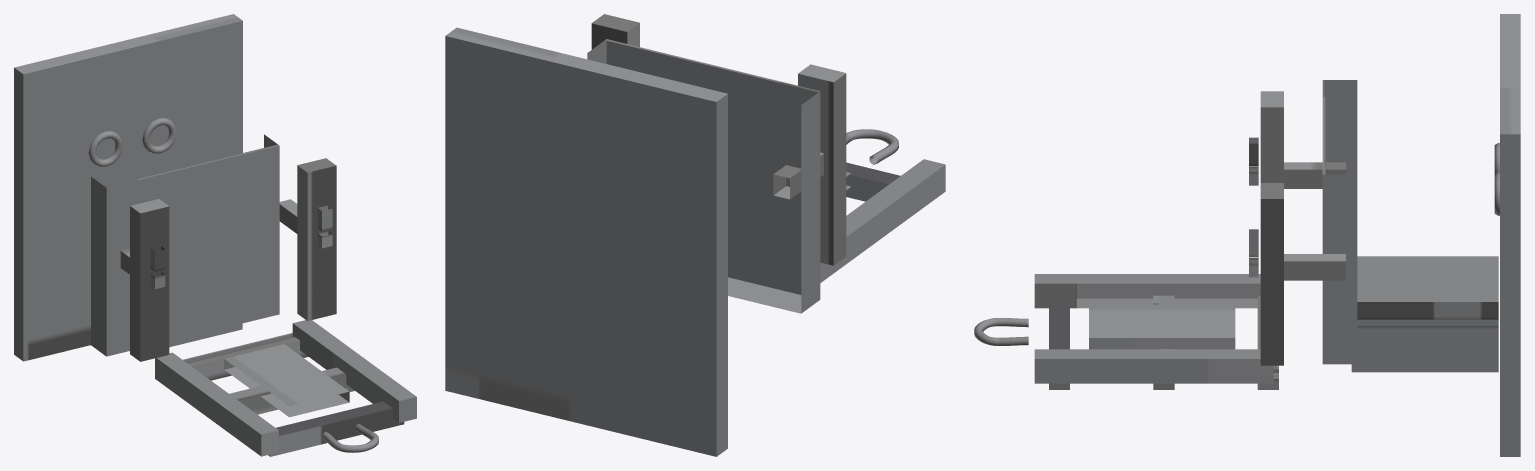
3 views of the same model, side by side, from view 1: azimuth 30°, elevation 25°; view 2: azimuth 150°, elevation 25°; view 3: azimuth 270°, elevation 25° (orthographic). The views are drawn at different scales.
Size of the model in its own units: 0.736 by 0.92 by 1.41.
